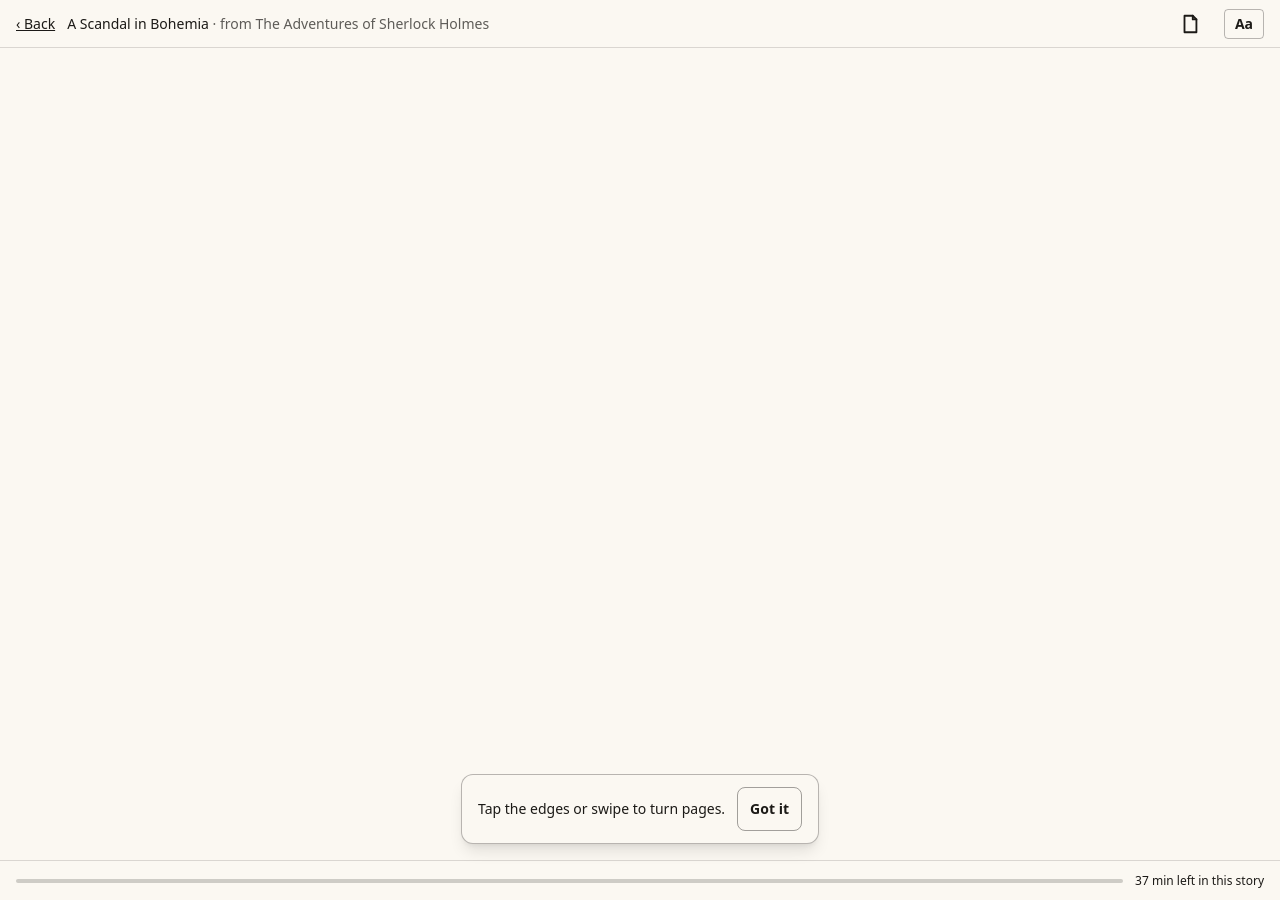
turning pages › hides and shows the controls when the middle is tapped
Expected: the button with aria-label "Text and theme settings" is shown, [1224,8,1264,38]
Click the button named "Show or hide controls" at (640, 430), box [384,0,896,860]
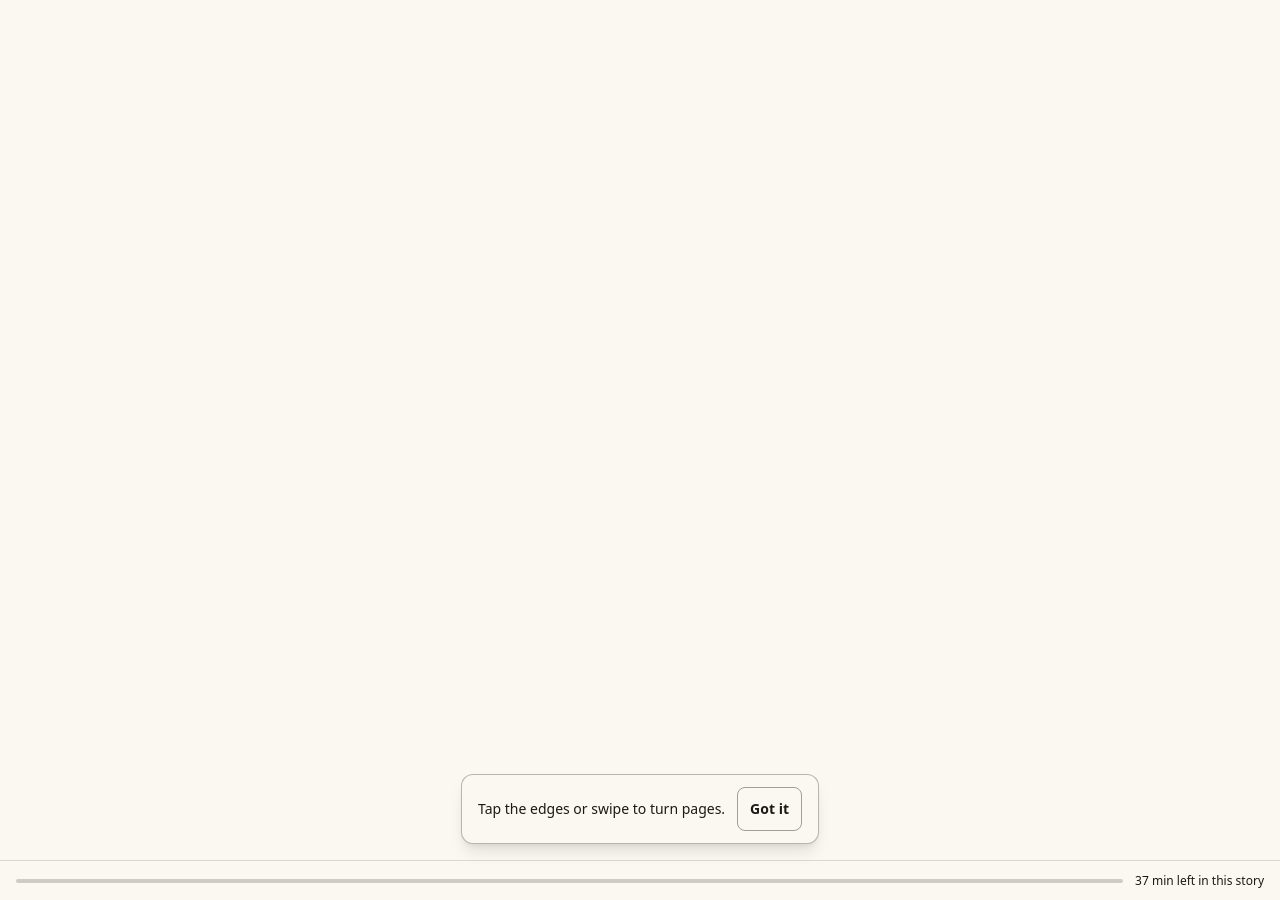
Click the button named "Show or hide controls" at (640, 430), box [384,0,896,860]
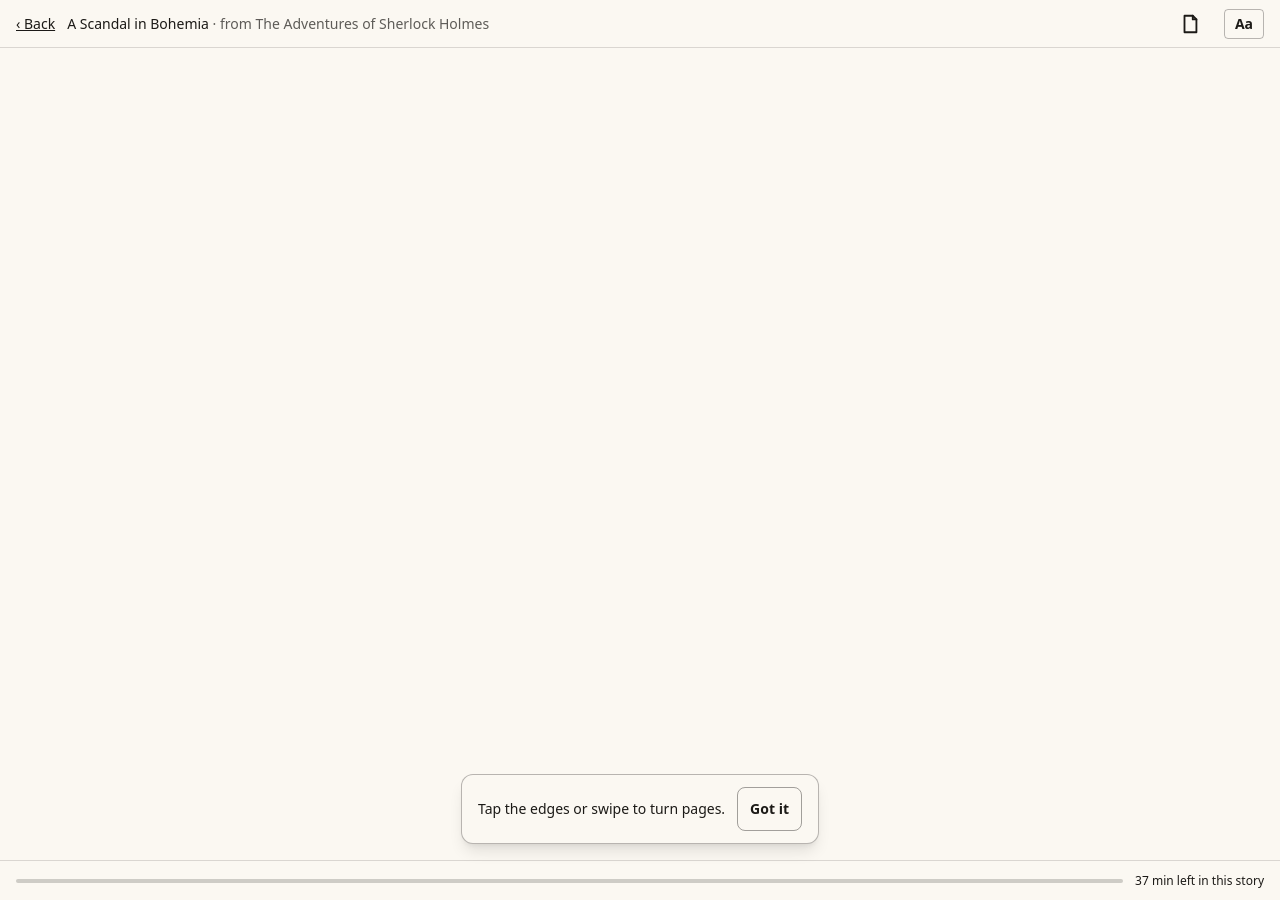
Expected: the button with aria-label "Text and theme settings" is shown, [1224,8,1264,38]
